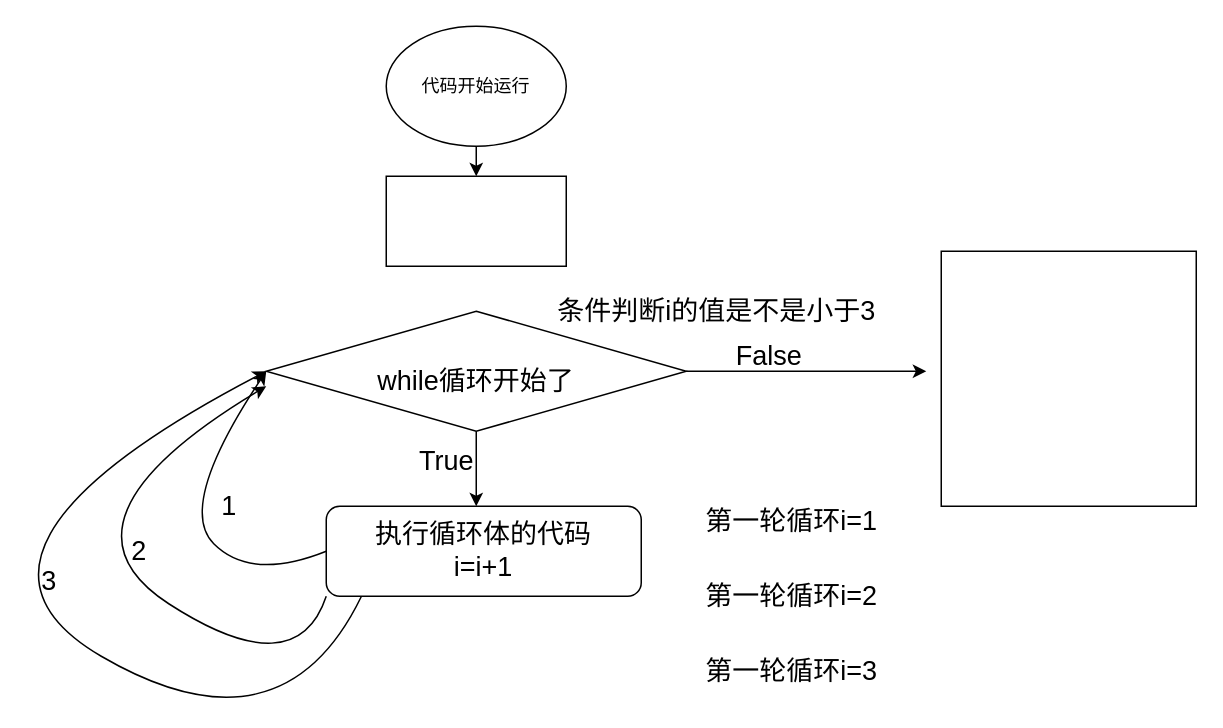
This 1223x728 diagram has some shape labels left out. The centre of each missing label's shape, as x and y in pixels:
i=1: the point at 475,220
跳出循环体，执行while代码块下方的代码: the point at 1068,378
